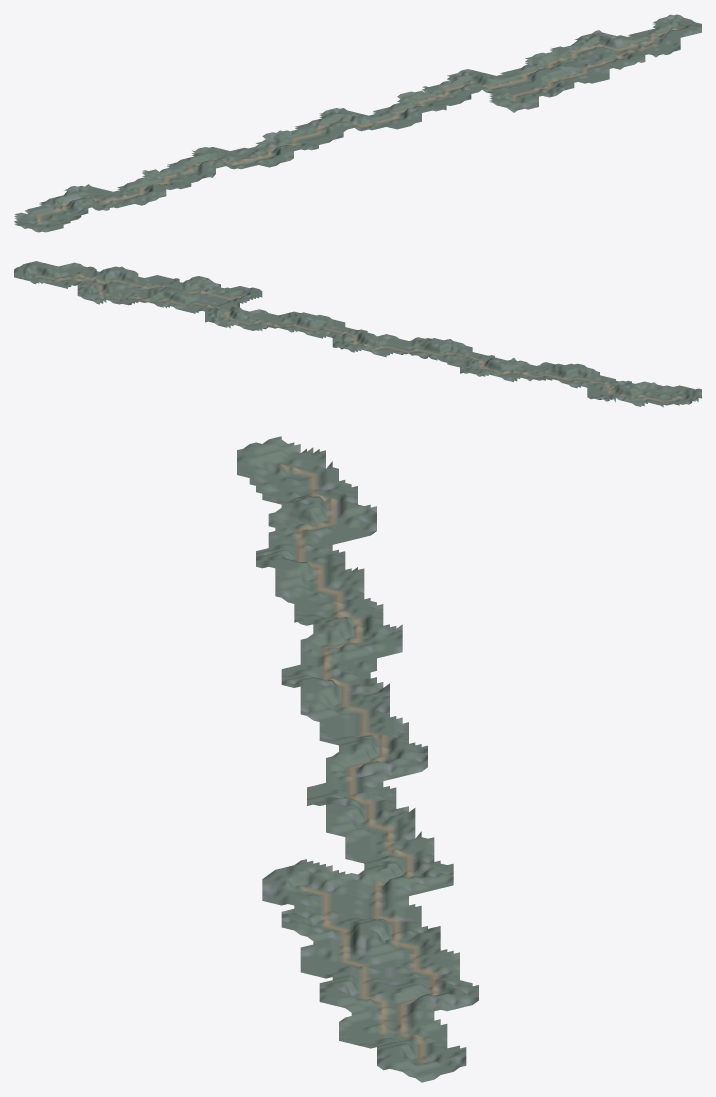
Rendered from terrain.glb.
The picture shows the model from 3 angles, top to bottom: view 1: azimuth 30°, elevation 25°; view 2: azimuth 150°, elevation 25°; view 3: azimuth 270°, elevation 25°; orthographic projection. The views are drawn at different scales.
Visible parts, largest first — view 1: NATURAL_14_-2, NATURAL_11_-2, NATURAL_1_-1, NATURAL_15_-2, NATURAL_12_-2, NATURAL_12_-1, NATURAL_5_-1, NATURAL_13_-2, NATURAL_3_-1, NATURAL_8_-2, NATURAL_10_-2, NATURAL_2_-1 (+16 smaller); view 2: NATURAL_12_-1, NATURAL_2_-1, NATURAL_1_-1, NATURAL_14_-2, NATURAL_11_-2, NATURAL_13_-2, NATURAL_15_-2, NATURAL_5_-1, NATURAL_6_-1, NATURAL_12_-2, NATURAL_16_-2, NATURAL_3_-1 (+17 smaller); view 3: NATURAL_15_-2, NATURAL_1_-1, NATURAL_13_-2, NATURAL_3_-1, NATURAL_11_-1, NATURAL_14_-2, NATURAL_11_-2, NATURAL_12_-2, NATURAL_5_-1, NATURAL_8_-2, NATURAL_12_-1, NATURAL_2_-1 (+15 smaller).
Part boxes in pixels (left/top/right/bottom): NATURAL_14_-2: left=550, top=46, right=633, bottom=67; NATURAL_11_-2: left=422, top=75, right=505, bottom=99; NATURAL_1_-1: left=39, top=191, right=123, bottom=212; NATURAL_15_-2: left=592, top=35, right=676, bottom=54; NATURAL_12_-2: left=468, top=70, right=548, bottom=88; NATURAL_12_-1: left=507, top=73, right=574, bottom=97; NATURAL_5_-1: left=216, top=151, right=293, bottom=169; NATURAL_13_-2: left=514, top=54, right=591, bottom=73; NATURAL_3_-1: left=131, top=170, right=201, bottom=188; NATURAL_8_-2: left=309, top=108, right=378, bottom=127; NATURAL_10_-2: left=397, top=88, right=463, bottom=107; NATURAL_2_-1: left=85, top=182, right=165, bottom=202; NATURAL_12_-1: left=182, top=276, right=220, bottom=304; NATURAL_2_-1: left=565, top=365, right=603, bottom=396; NATURAL_1_-1: left=603, top=379, right=641, bottom=406; NATURAL_14_-2: left=106, top=273, right=144, bottom=302; NATURAL_11_-2: left=221, top=304, right=259, bottom=330; NATURAL_13_-2: left=144, top=286, right=182, bottom=310; NATURAL_15_-2: left=68, top=267, right=106, bottom=294; NATURAL_5_-1: left=450, top=339, right=488, bottom=369; NATURAL_6_-1: left=412, top=337, right=450, bottom=360; NATURAL_12_-2: left=182, top=291, right=220, bottom=320; NATURAL_16_-2: left=30, top=261, right=67, bottom=284; NATURAL_3_-1: left=526, top=362, right=564, bottom=383; NATURAL_15_-2: left=358, top=987, right=434, bottom=1045; NATURAL_1_-1: left=281, top=486, right=357, bottom=541; NATURAL_13_-2: left=358, top=918, right=434, bottom=970; NATURAL_3_-1: left=281, top=560, right=357, bottom=611; NATURAL_11_-1: left=281, top=859, right=357, bottom=908; NATURAL_14_-2: left=358, top=946, right=434, bottom=1003; NATURAL_11_-2: left=358, top=837, right=434, bottom=895; NATURAL_12_-2: left=358, top=871, right=434, bottom=926; NATURAL_5_-1: left=281, top=631, right=357, bottom=684; NATURAL_8_-2: left=358, top=733, right=427, bottom=783; NATURAL_12_-1: left=281, top=896, right=357, bottom=941; NATURAL_2_-1: left=281, top=520, right=357, bottom=569.
Bounding box in the file's own units: 383 × 2.9 × 61.56.
